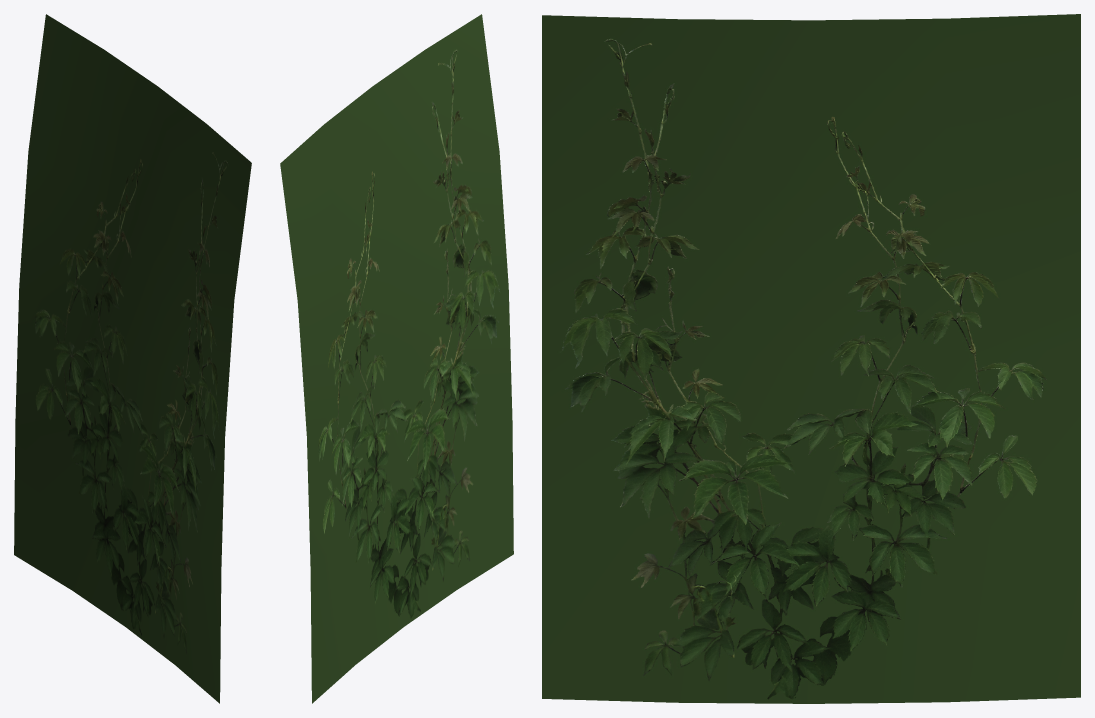
File: mw_vine_01.FBX
3 views of the same model, side by side, from view 1: azimuth 30°, elevation 25°; view 2: azimuth 150°, elevation 25°; view 3: azimuth 270°, elevation 25° (orthographic). The views are drawn at different scales.
Parts seen in each view (by area): view 1: mw_vine_01; view 2: mw_vine_01; view 3: mw_vine_01.
Boxes of the visible parts, left/top/right/bottom form: mw_vine_01: left=14, top=14, right=251, bottom=703; mw_vine_01: left=280, top=14, right=513, bottom=703; mw_vine_01: left=542, top=14, right=1080, bottom=703.
Bounding box in the file's own units: 19.01 × 232 × 161.
